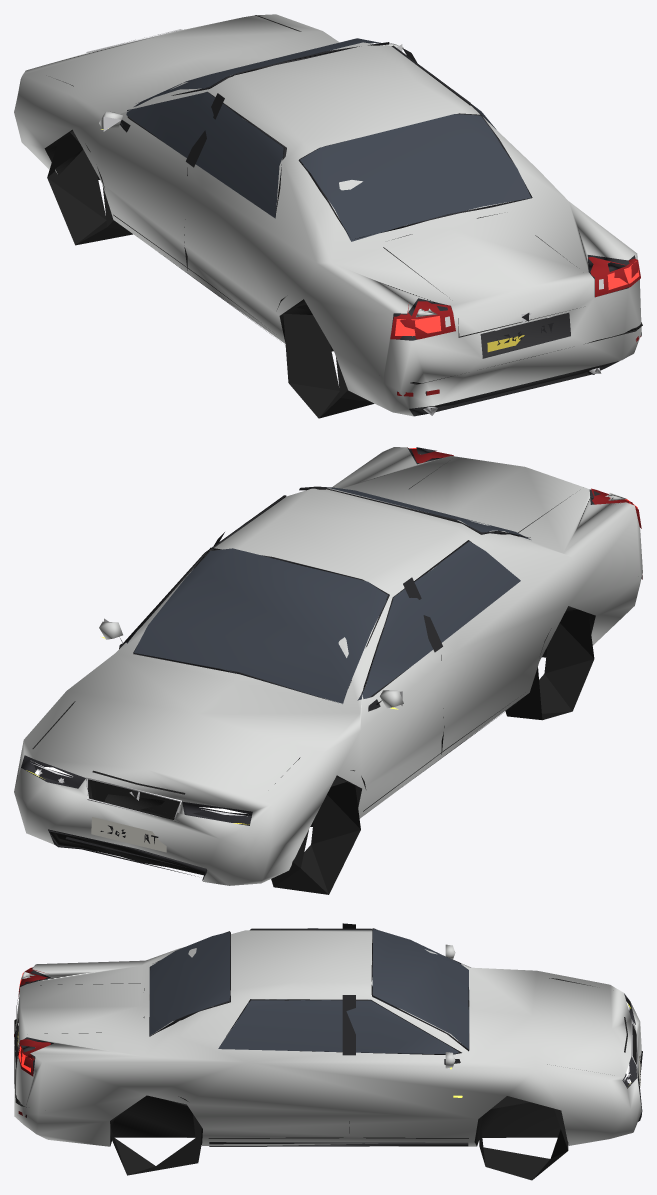
Rendered from civ_sedan_lod1.glb.
3 renders of one model, top to bottom at view 1: azimuth 30°, elevation 25°; view 2: azimuth 150°, elevation 25°; view 3: azimuth 270°, elevation 25°, orthographic. The views are drawn at different scales.
Visible parts, largest first — view 1: civ_sedan.001; view 2: civ_sedan.001; view 3: civ_sedan.001.
Part boxes in pixels (x1=…): civ_sedan.001: x1=14, y1=14, x2=642, y2=418; civ_sedan.001: x1=14, y1=447, x2=642, y2=894; civ_sedan.001: x1=14, y1=923, x2=642, y2=1180.
Bounding box in the file's own units: 2.08 × 1.51 × 4.8.
